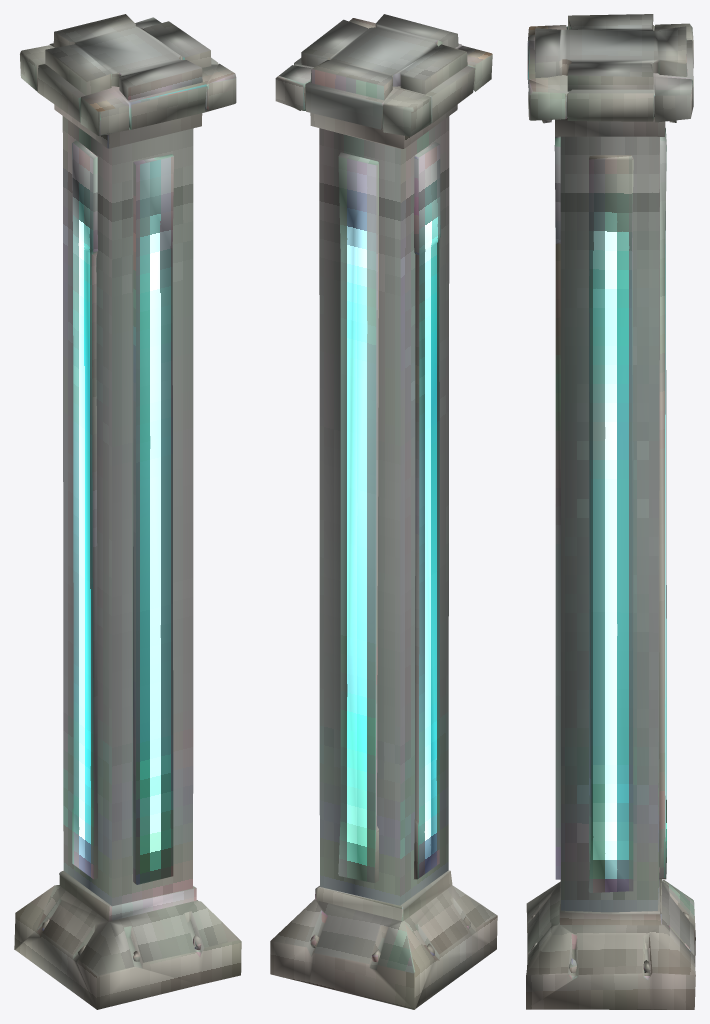
Rendered from pillar.lod2.glb.
The picture shows the model from 3 angles, left to right: view 1: azimuth 30°, elevation 25°; view 2: azimuth 150°, elevation 25°; view 3: azimuth 270°, elevation 25°; orthographic projection.
Size of the model in its own units: 0.4983 by 3 by 0.4967.
Materials: 1 (1 with a texture image).
